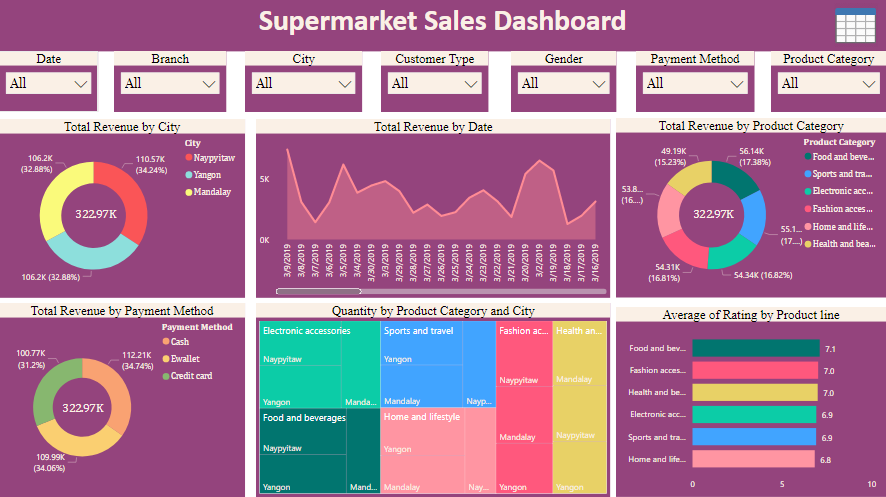

The dashboard page shown, as its layout file describes it:
{"tool":"powerbi","page":{"name":"Sales Dashboard","canvas":[1280,720],"ordinal":0},"visuals":[{"type":"textbox","box":[0,0,1280,77.5],"z":0},{"type":"slicer","title":"Product Category","fields":{"Values":["supermarket_sales - Sheet1.Product line"]},"box":[1114,76.8,166.6,88.4],"z":1000},{"type":"slicer","title":"Branch","fields":{"Values":["supermarket_sales - Sheet1.Branch"]},"box":[166.6,76.8,162.3,88.4],"z":2000},{"type":"slicer","title":"City","fields":{"Values":["supermarket_sales - Sheet1.City"]},"box":[354.9,76.8,169.5,88.4],"z":3000},{"type":"slicer","title":"Customer Type","fields":{"Values":["supermarket_sales - Sheet1.Customer type"]},"box":[550.5,76.8,155,88.4],"z":4000},{"type":"slicer","title":"Payment Method","fields":{"Values":["supermarket_sales - Sheet1.Payment"]},"box":[918.5,76.8,170.9,88.4],"z":5000},{"type":"slicer","title":"Date","fields":{"Values":["supermarket_sales - Sheet1.Date"]},"box":[0,76.8,143.4,88.4],"z":6000},{"type":"slicer","title":"Gender","fields":{"Values":["supermarket_sales - Sheet1.Gender"]},"box":[738.8,76.8,152.1,88.4],"z":7000},{"type":"donutChart","title":"Total Revenue by Payment Method","fields":{"Category":["supermarket_sales - Sheet1.Payment"],"Y":["Sum(supermarket_sales - Sheet1.Total)"]},"box":[0,440.4,354.9,279.6],"z":8000},{"type":"donutChart","title":"Total Revenue by City","fields":{"Category":["supermarket_sales - Sheet1.City"],"Y":["Sum(supermarket_sales - Sheet1.Total)"]},"box":[0,175.3,354.9,257.9],"z":9000},{"type":"donutChart","title":"Total Revenue by Product Category","fields":{"Category":["supermarket_sales - Sheet1.Product line"],"Y":["Sum(supermarket_sales - Sheet1.Total)"]},"box":[890.9,173.8,389.7,259.3],"z":10000},{"type":"card","fields":{"Values":["Sum(supermarket_sales - Sheet1.Total)"]},"box":[104.3,276.7,71,69.5],"z":11000},{"type":"card","fields":{"Values":["Sum(supermarket_sales - Sheet1.Total)"]},"box":[85.5,556.3,71,69.5],"z":12000},{"type":"card","fields":{"Values":["Sum(supermarket_sales - Sheet1.Total)"]},"box":[988,276.7,85.5,69.5],"z":13000},{"type":"areaChart","fields":{"Y":["Sum(supermarket_sales - Sheet1.Total Revenue)"],"Category":["supermarket_sales - Sheet1.Date"]},"box":[370.9,175.3,511.4,257.9],"z":14000},{"type":"clusteredBarChart","fields":{"Y":["Avg(supermarket_sales - Sheet1.Rating)"],"Category":["supermarket_sales - Sheet1.Product line"]},"box":[890.9,446.2,389.7,273.8],"z":15000},{"type":"treemap","title":"Quantity by Product Category and City","fields":{"Group":["supermarket_sales - Sheet1.Product line"],"Details":["supermarket_sales - Sheet1.City"],"Values":["Sum(supermarket_sales - Sheet1.Quantity)"]},"box":[370.9,440.4,511.4,279.6],"z":16000},{"type":"image","box":[1198.1,1.4,78.2,75.3],"z":17000}]}

Visuals, with their boxes in screenshot pixels (x1, y1, x2, y2), scaled from the page's 1280x720 canvas onto the 886x497 screenshot:
textbox: <box>0,0,885,53</box>
"Product Category" slicer: <box>771,53,885,114</box>
"Branch" slicer: <box>115,53,228,114</box>
"City" slicer: <box>246,53,363,114</box>
"Customer Type" slicer: <box>381,53,488,114</box>
"Payment Method" slicer: <box>636,53,754,114</box>
"Date" slicer: <box>0,53,99,114</box>
"Gender" slicer: <box>511,53,617,114</box>
"Total Revenue by Payment Method" donutChart: <box>0,304,246,496</box>
"Total Revenue by City" donutChart: <box>0,121,246,299</box>
"Total Revenue by Product Category" donutChart: <box>617,120,885,299</box>
card - Sum(supermarket_sales - Sheet1.Total): <box>72,191,121,239</box>
card - Sum(supermarket_sales - Sheet1.Total): <box>59,384,108,432</box>
card - Sum(supermarket_sales - Sheet1.Total): <box>684,191,743,239</box>
areaChart - Sum(supermarket_sales - Sheet1.Total Revenue) x supermarket_sales - Sheet1.Date: <box>257,121,611,299</box>
clusteredBarChart - Avg(supermarket_sales - Sheet1.Rating) x supermarket_sales - Sheet1.Product line: <box>617,308,885,496</box>
"Quantity by Product Category and City" treemap: <box>257,304,611,496</box>
image: <box>829,1,883,53</box>
